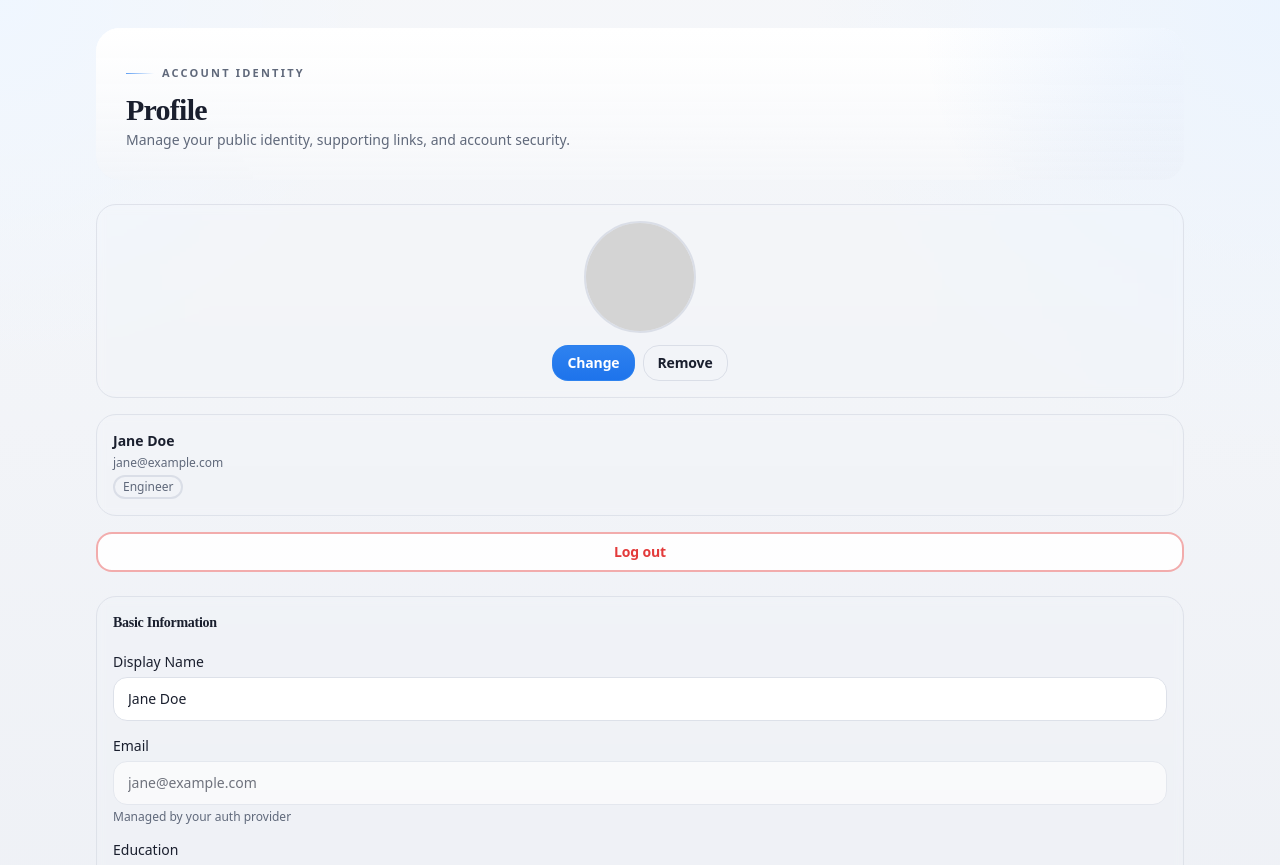
Test: ProfilePage › avatar remove clears preview
# Remove button should be present when there's an avatar
Click the button "Remove". click: (685, 362)
box: [642, 344, 728, 380]
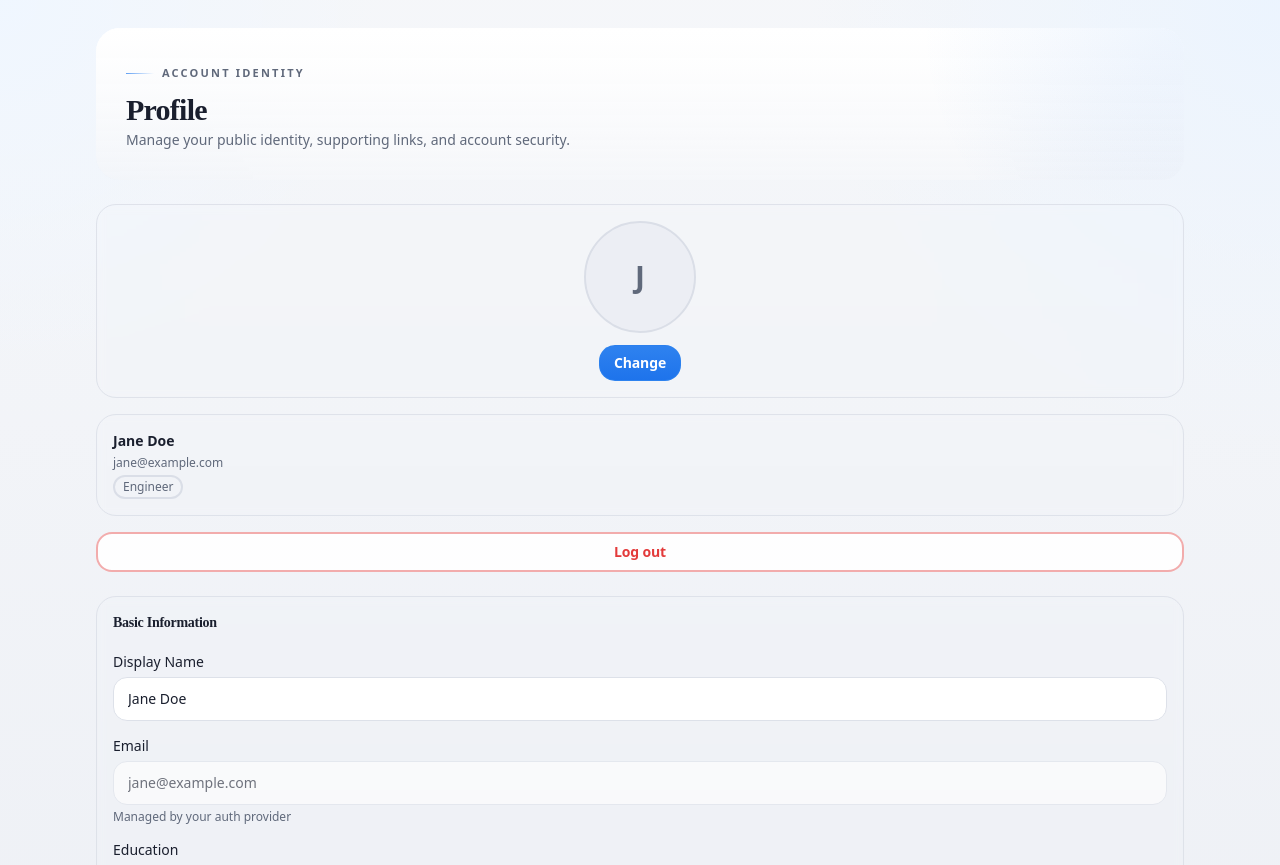
Check: the button "Remove" is gone
